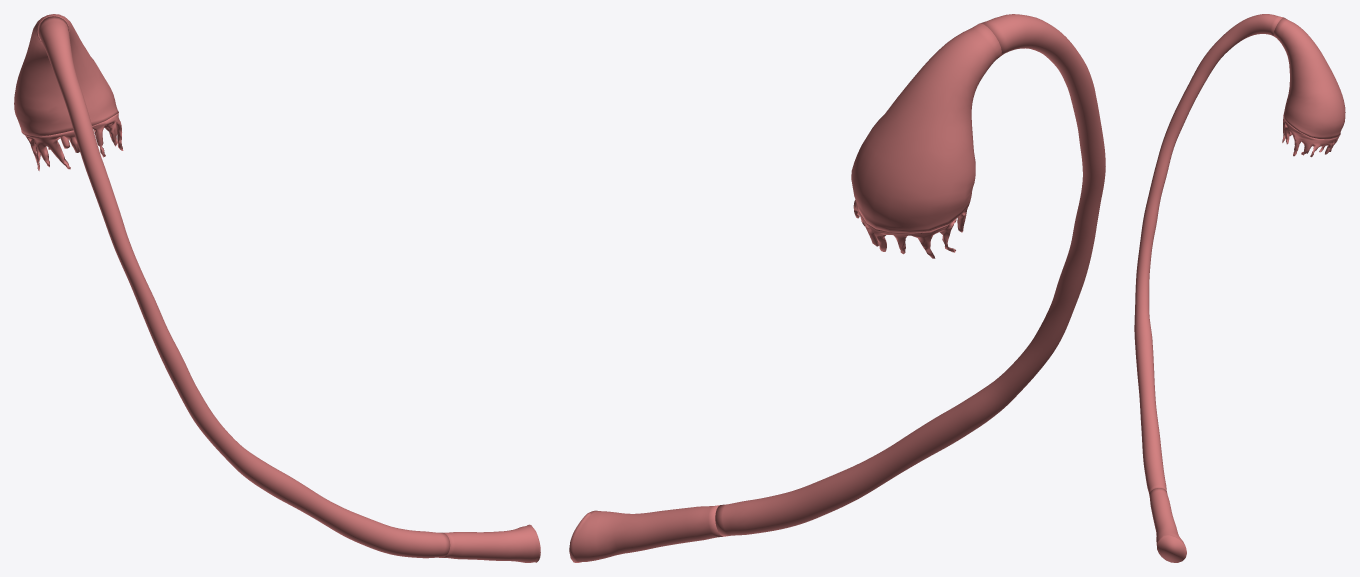
Rendered from vh_f_fallopian_tube_r-80.glb.
3 views of the same model, side by side, from view 1: azimuth 30°, elevation 25°; view 2: azimuth 150°, elevation 25°; view 3: azimuth 270°, elevation 25° (orthographic). The views are drawn at different scales.
Visible parts, largest first — view 1: VH_F_ampulla_of_uterine_tube_R, VH_F_uterine_tube_infundibulum_R, VH_F_isthmus_of_fallopian_tube_R, VH_F_fibria_of_uterine_tube_R; view 2: VH_F_ampulla_of_uterine_tube_R, VH_F_uterine_tube_infundibulum_R, VH_F_isthmus_of_fallopian_tube_R, VH_F_fibria_of_uterine_tube_R; view 3: VH_F_ampulla_of_uterine_tube_R, VH_F_uterine_tube_infundibulum_R, VH_F_isthmus_of_fallopian_tube_R, VH_F_fibria_of_uterine_tube_R.
Part boxes in pixels (<box>): VH_F_ampulla_of_uterine_tube_R: <box>37,16,450,558</box>; VH_F_uterine_tube_infundibulum_R: <box>14,14,118,136</box>; VH_F_isthmus_of_fallopian_tube_R: <box>442,524,540,562</box>; VH_F_fibria_of_uterine_tube_R: <box>22,112,123,170</box>; VH_F_ampulla_of_uterine_tube_R: <box>715,14,1105,536</box>; VH_F_uterine_tube_infundibulum_R: <box>851,23,1001,233</box>; VH_F_isthmus_of_fallopian_tube_R: <box>569,505,722,562</box>; VH_F_fibria_of_uterine_tube_R: <box>853,200,967,258</box>; VH_F_ampulla_of_uterine_tube_R: <box>1134,14,1283,493</box>; VH_F_uterine_tube_infundibulum_R: <box>1273,17,1345,139</box>; VH_F_isthmus_of_fallopian_tube_R: <box>1149,488,1186,562</box>; VH_F_fibria_of_uterine_tube_R: <box>1282,117,1339,157</box>.
Bounding box in the file's own units: 0.0344 × 0.0446 × 0.0209.
